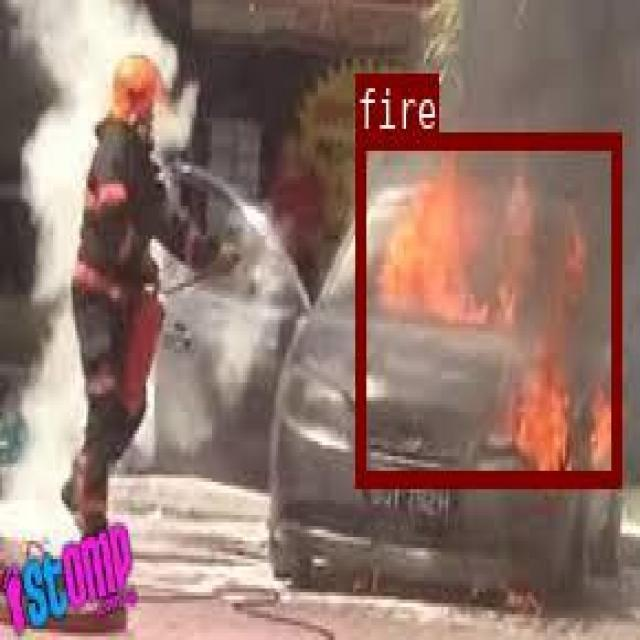fire: (354, 130, 619, 484)
